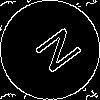N: (25, 25, 84, 81)
